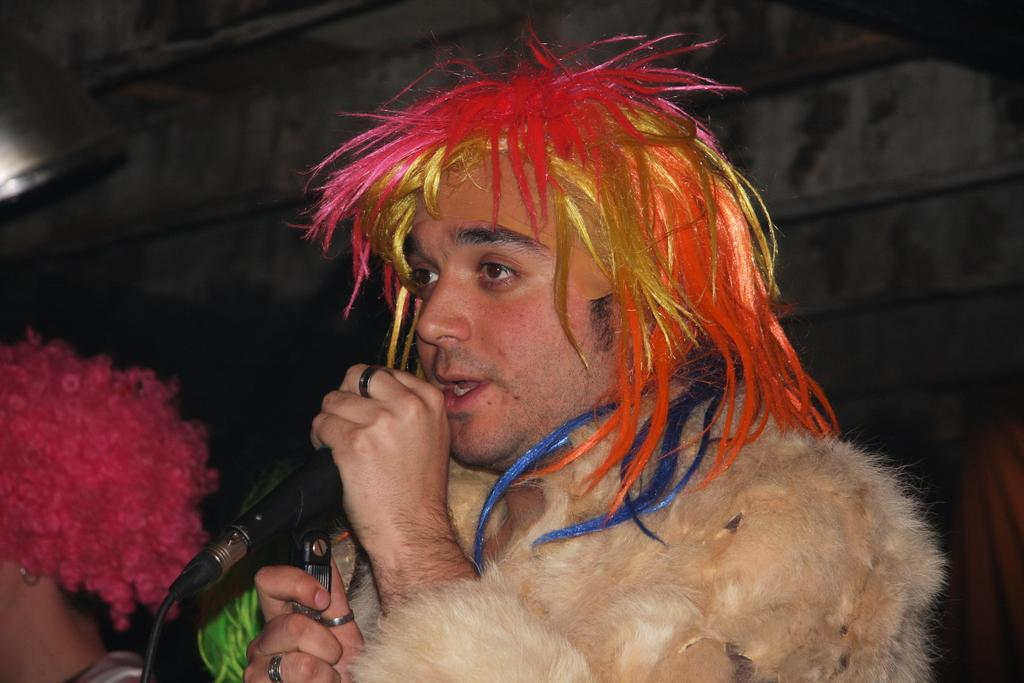Sem Máscara: (399, 150, 630, 465)
